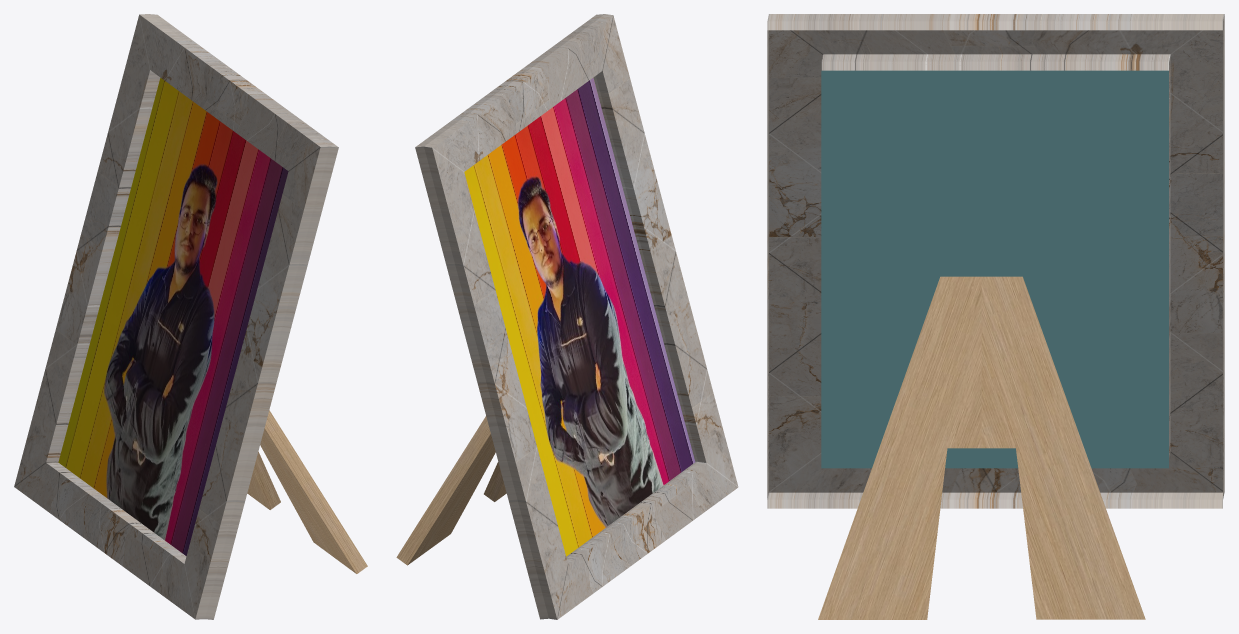
The model's file is frameImg.glb.
3 renders of one model, left to right at view 1: azimuth 30°, elevation 25°; view 2: azimuth 150°, elevation 25°; view 3: azimuth 270°, elevation 25°, orthographic. The views are drawn at different scales.
Parts seen in each view (by area): view 1: Plane, Plane.003; view 2: Plane, Plane.003; view 3: Plane, Plane.003.
Part boxes in pixels (x1,y1,x2,y2): Plane: [14, 14, 338, 619]; Plane.003: [247, 410, 367, 573]; Plane: [415, 14, 738, 619]; Plane.003: [396, 416, 506, 565]; Plane: [767, 14, 1224, 508]; Plane.003: [818, 276, 1145, 619].
Size of the model in its own units: 0.0663 by 0.1498 by 0.1085.
Materials: 4 (3 with a texture image).
